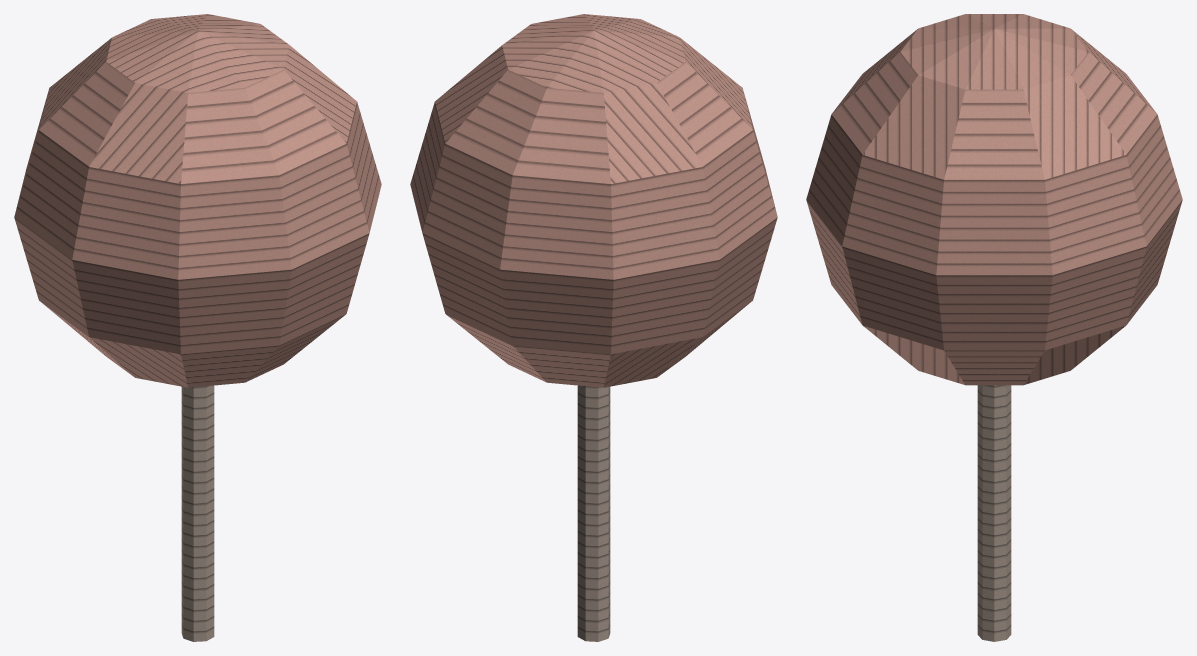
The model's file is tree_honeylocust.glb.
3 views of the same model, side by side, from view 1: azimuth 30°, elevation 25°; view 2: azimuth 150°, elevation 25°; view 3: azimuth 270°, elevation 25° (orthographic).
Parts seen in each view (by area): view 1: tree_honeylocust-col; view 2: tree_honeylocust-col; view 3: tree_honeylocust-col.
Part boxes in pixels (x1,y1,x2,y2): tree_honeylocust-col: [14, 14, 381, 641]; tree_honeylocust-col: [410, 14, 777, 641]; tree_honeylocust-col: [806, 14, 1182, 641].
Bounding box in the file's own units: 3.8 × 7.1 × 4.
Materials: 2 (2 with a texture image).
